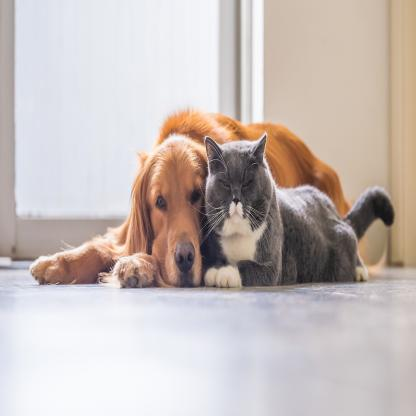cat: (206, 136, 292, 256)
dog: (130, 138, 214, 300)
